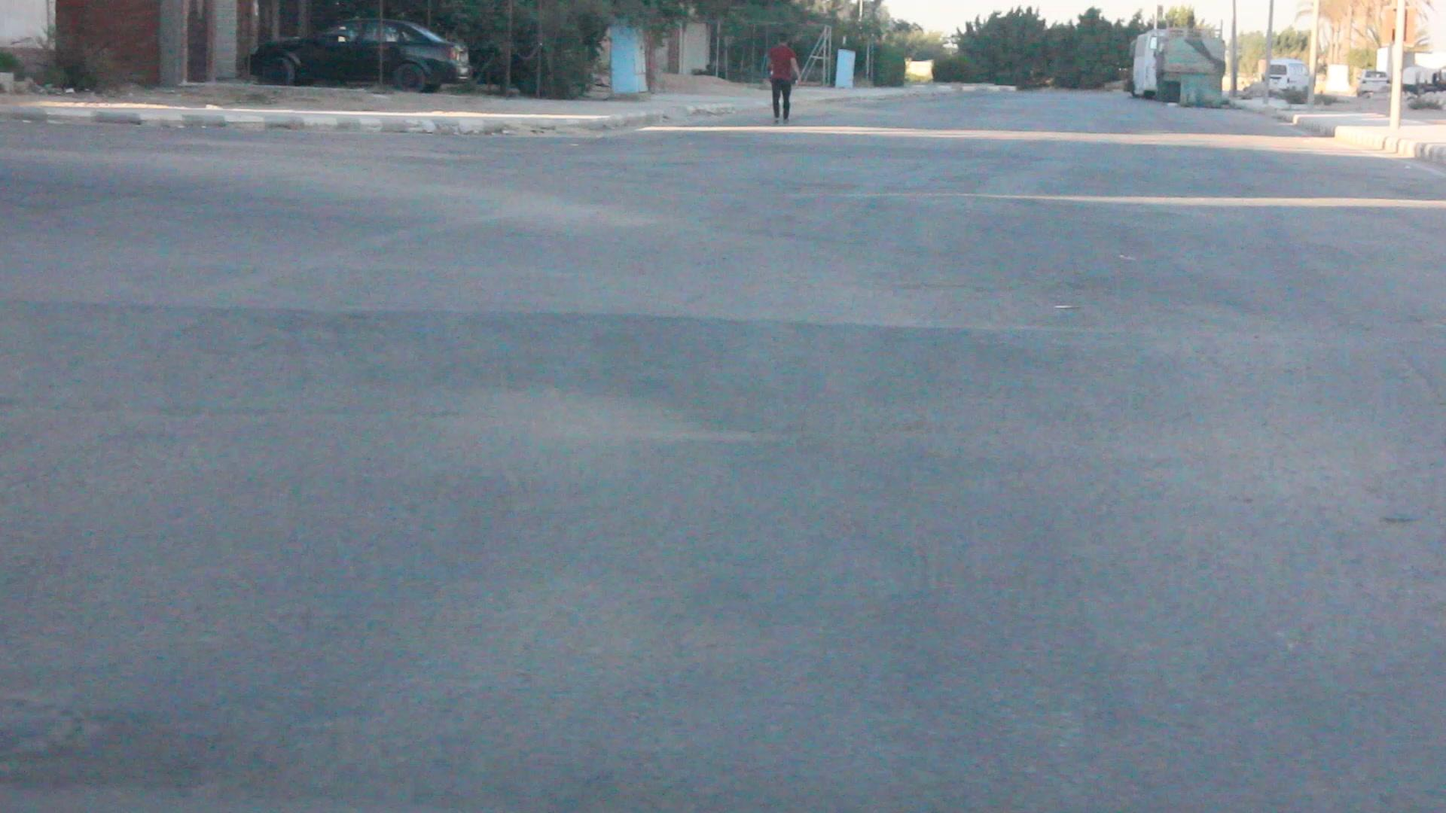Bump: (9, 280, 1446, 425)
